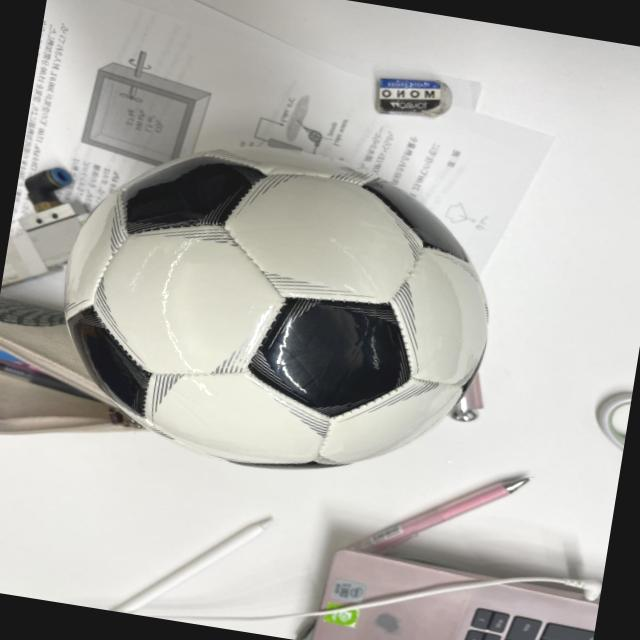Soccer Ball: (44, 118, 510, 500)
